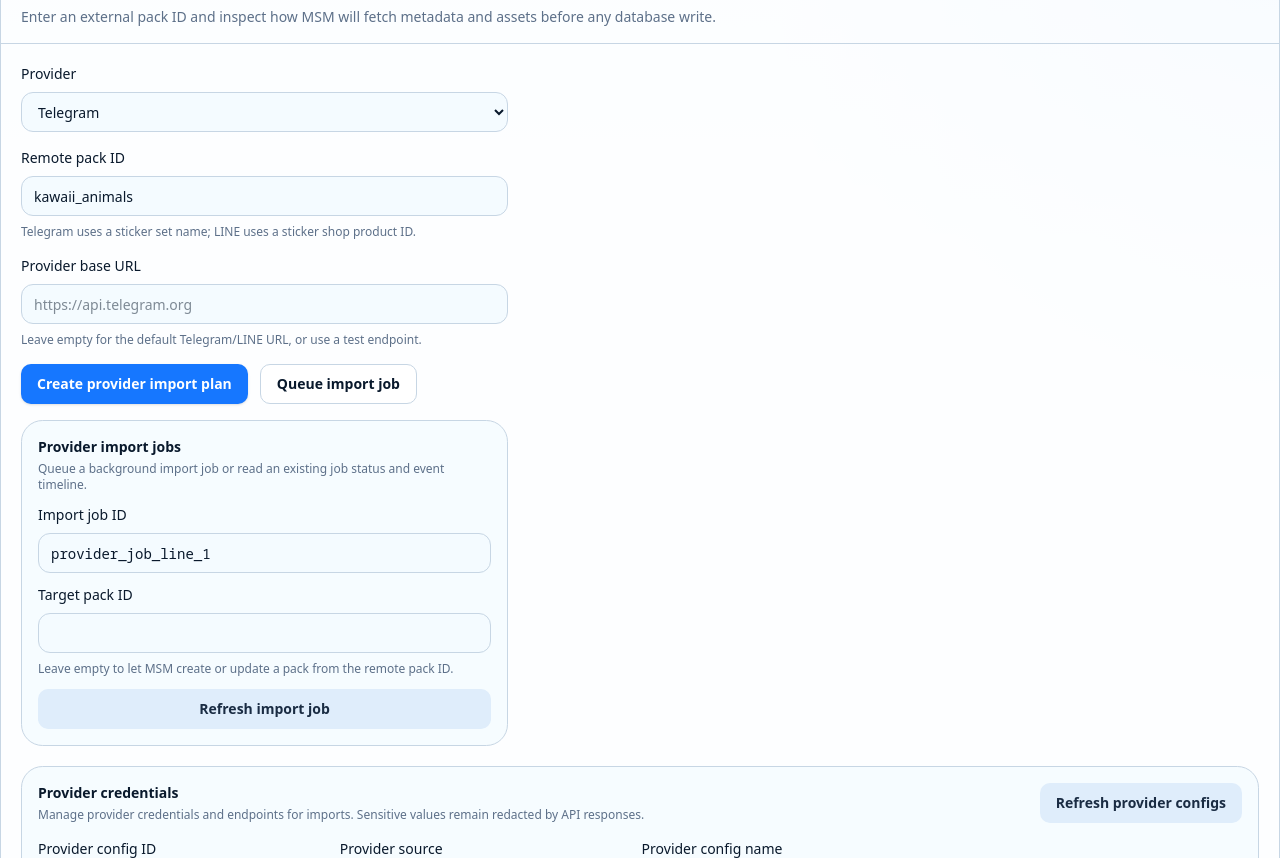
Scenario: provider import UI › queues provider import jobs and displays status events
Select "LINE Stickers" in the dropdown named "Provider" at x=265, y=112, box [21, 92, 508, 132]
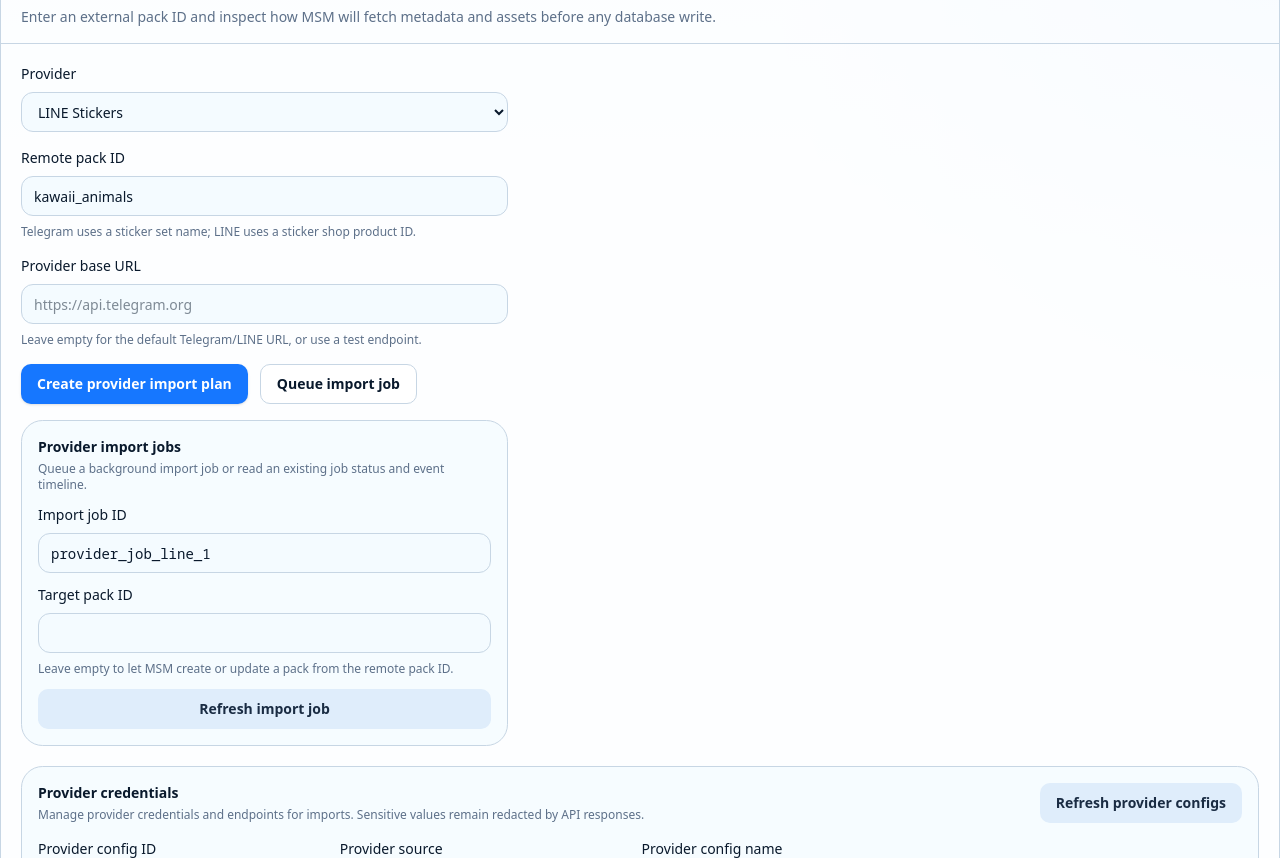
Replace the text in the field named "Remote pack ID" with "12345" at x=265, y=196, box [21, 176, 508, 216]
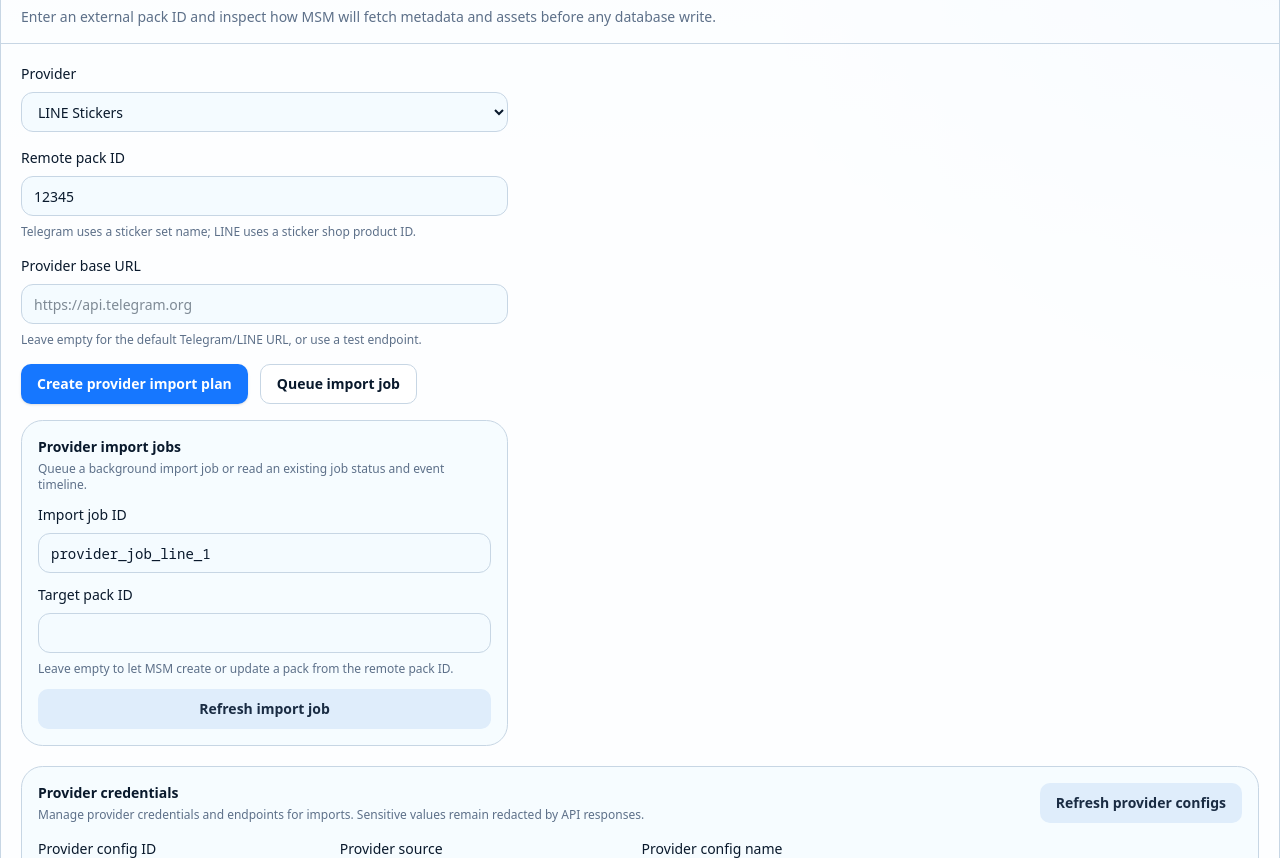
Type "https://store.line.me" into the field named "Provider base URL" at x=265, y=304, box [21, 284, 508, 324]
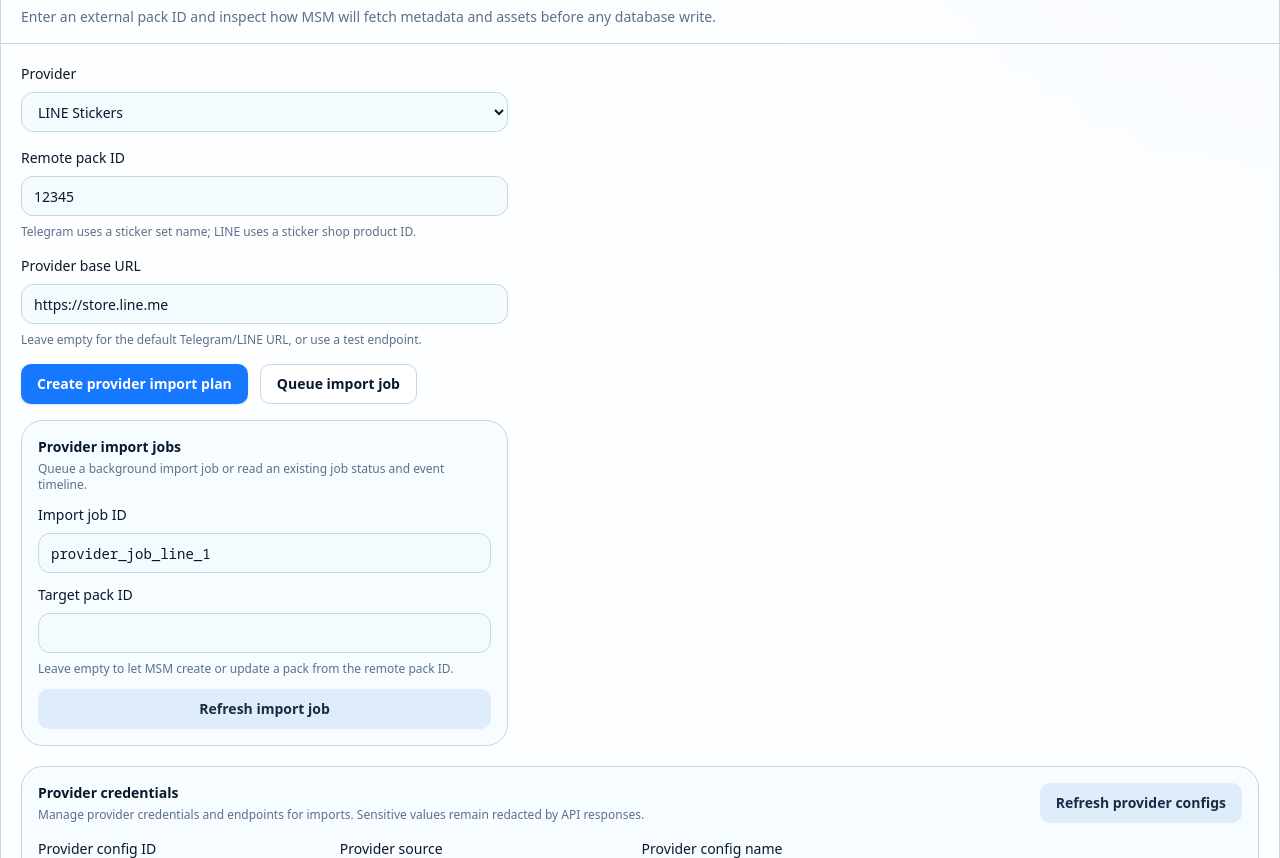
Replace the text in the field named "Import job ID" with "provider_job_1" at x=265, y=553, box [38, 533, 491, 573]
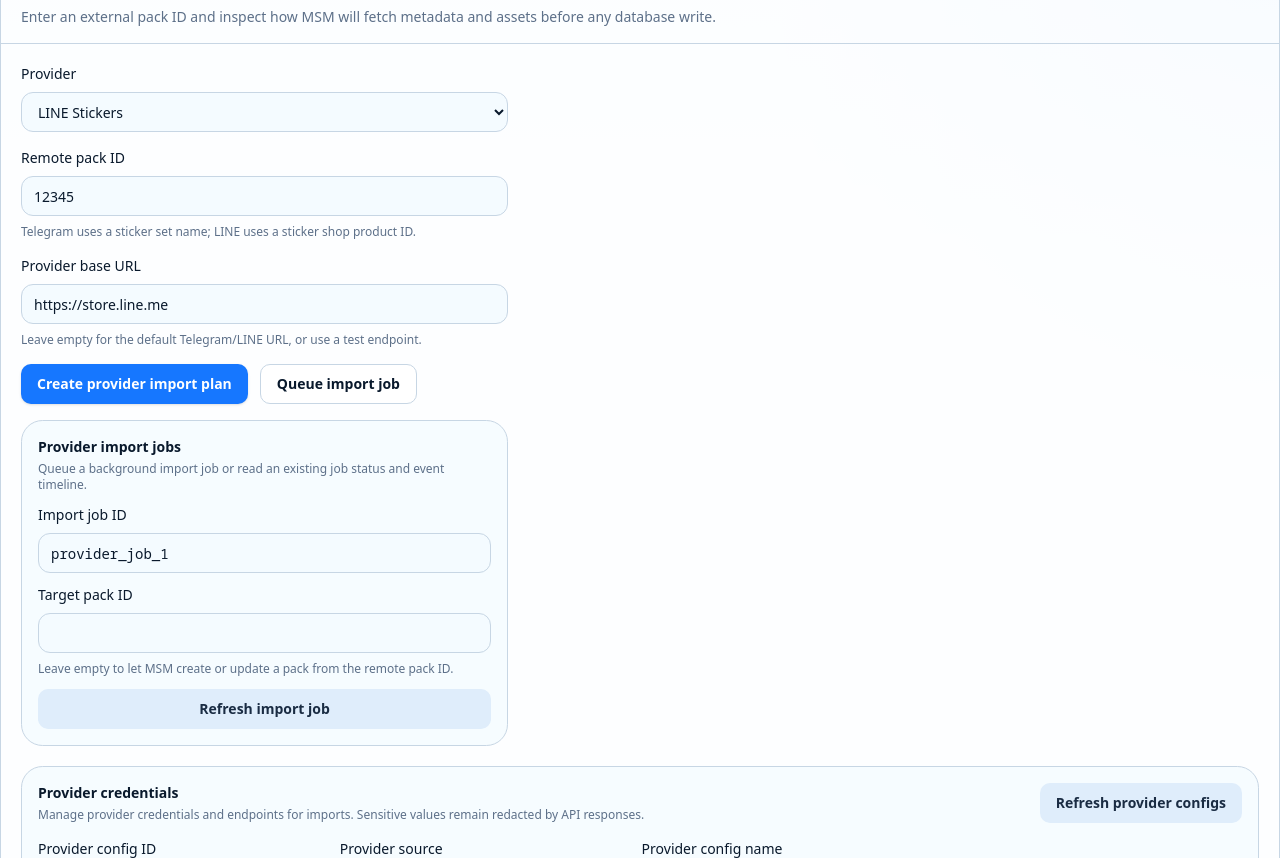
Type "pack_line_12345" into the field named "Target pack ID" at x=265, y=633, box [38, 613, 491, 653]
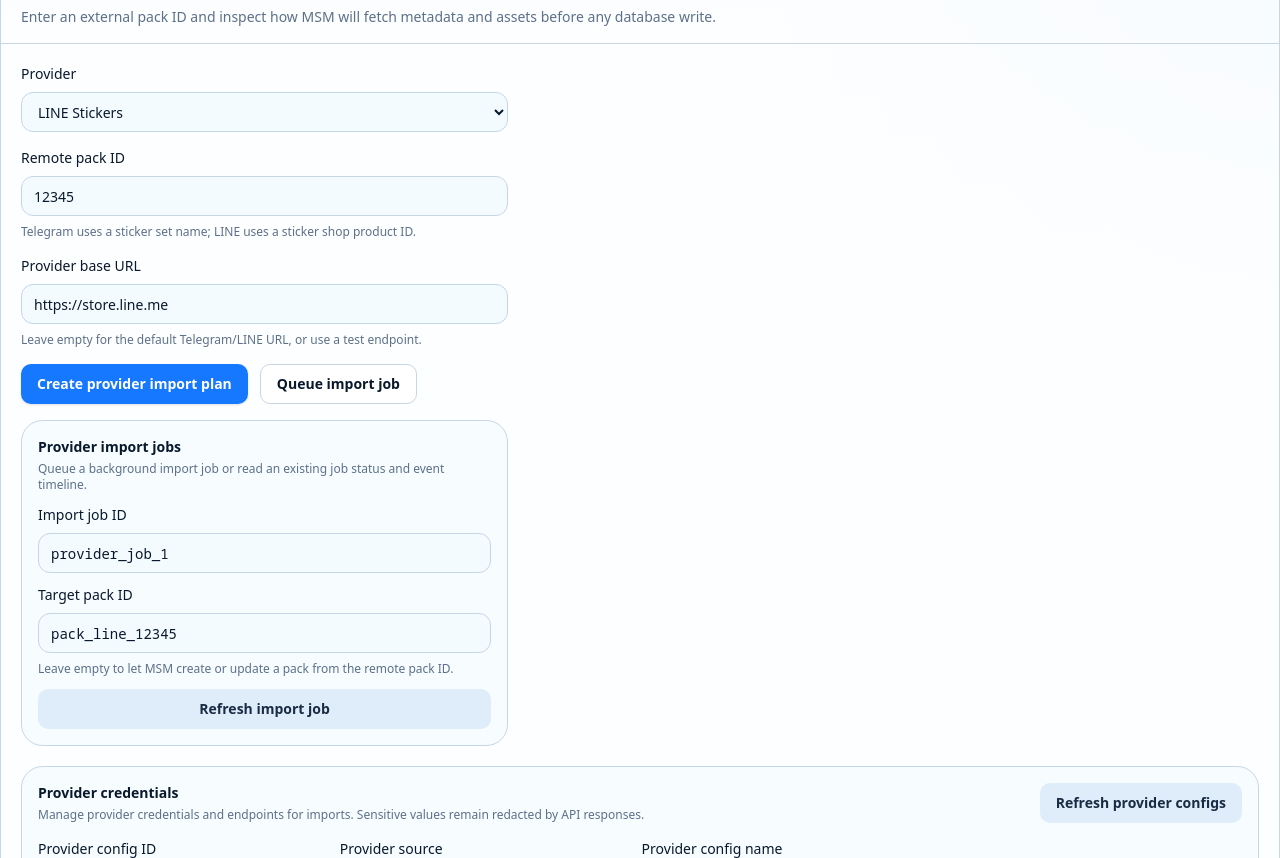
Click the button with aria-label "Queue import job" at x=338, y=384, box [260, 364, 417, 404]
(page scrolled)
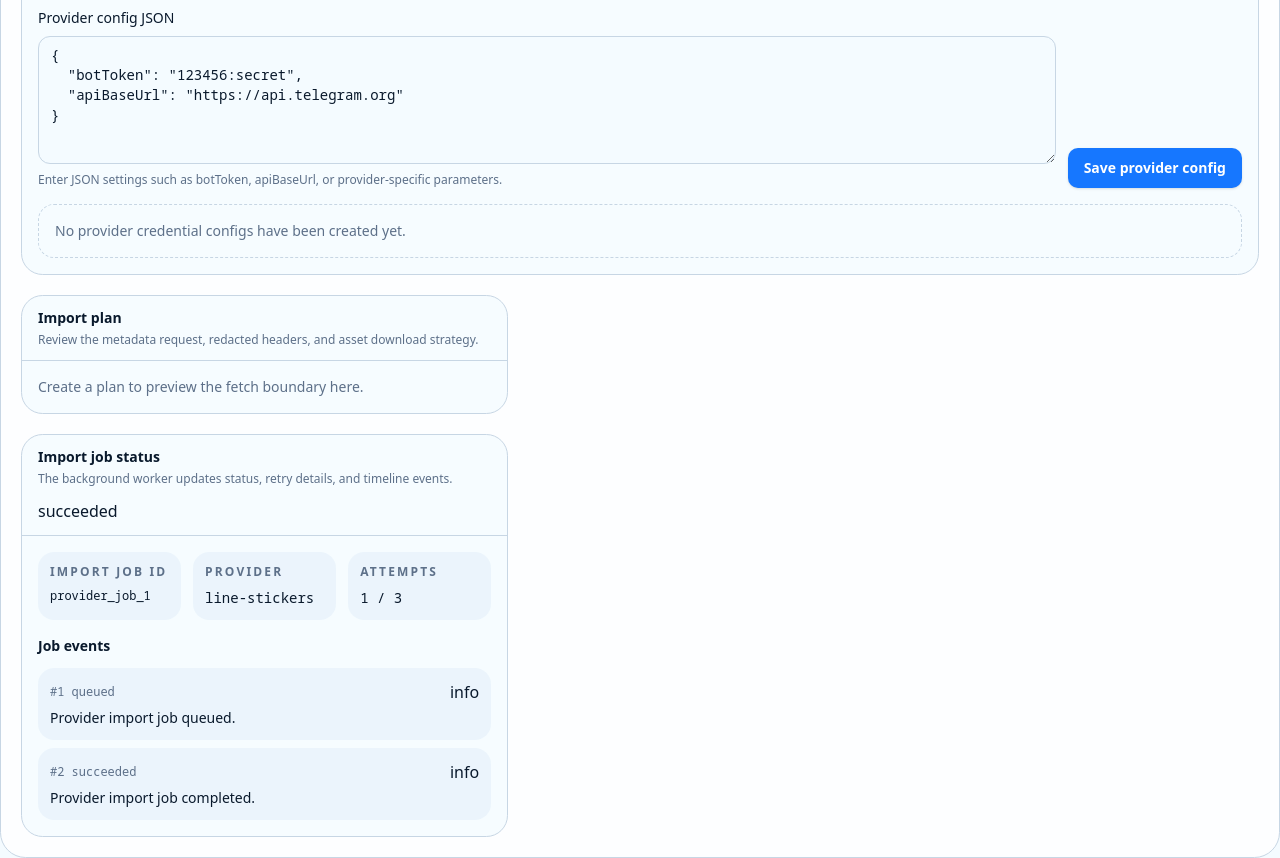
Now the text "Provider import job completed." is shown, box [50, 788, 255, 807]
